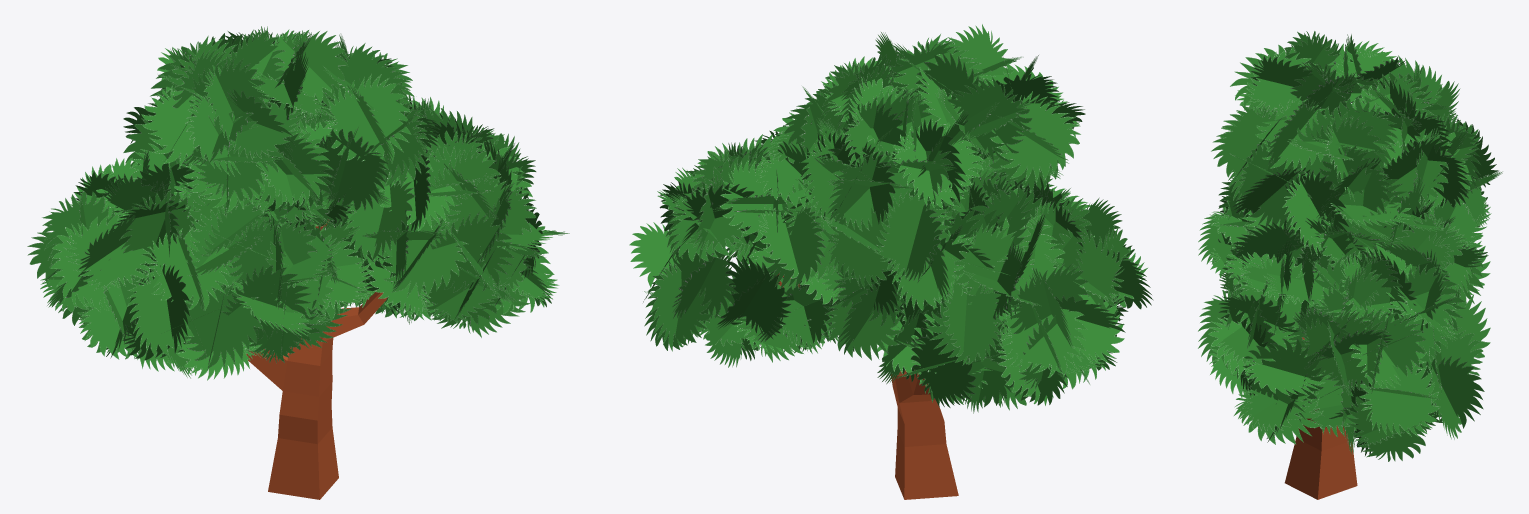
File: pohon.fbx
The picture shows the model from 3 angles, left to right: view 1: azimuth 30°, elevation 25°; view 2: azimuth 150°, elevation 25°; view 3: azimuth 270°, elevation 25°; orthographic projection. The views are drawn at different scales.
Visible parts, largest first — view 1: Cube.002; view 2: Cube.002; view 3: Cube.002.
Boxes of the visible parts, left/top/right/bottom form: Cube.002: left=27, top=26, right=569, bottom=499; Cube.002: left=629, top=24, right=1153, bottom=499; Cube.002: left=1198, top=31, right=1502, bottom=499.
Bounding box in the file's own units: 700 × 627 × 421.
